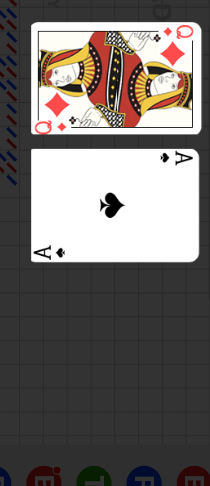AS: (156, 151, 194, 168), (33, 243, 69, 260)
QD: (31, 78, 78, 122), (152, 11, 198, 55)
